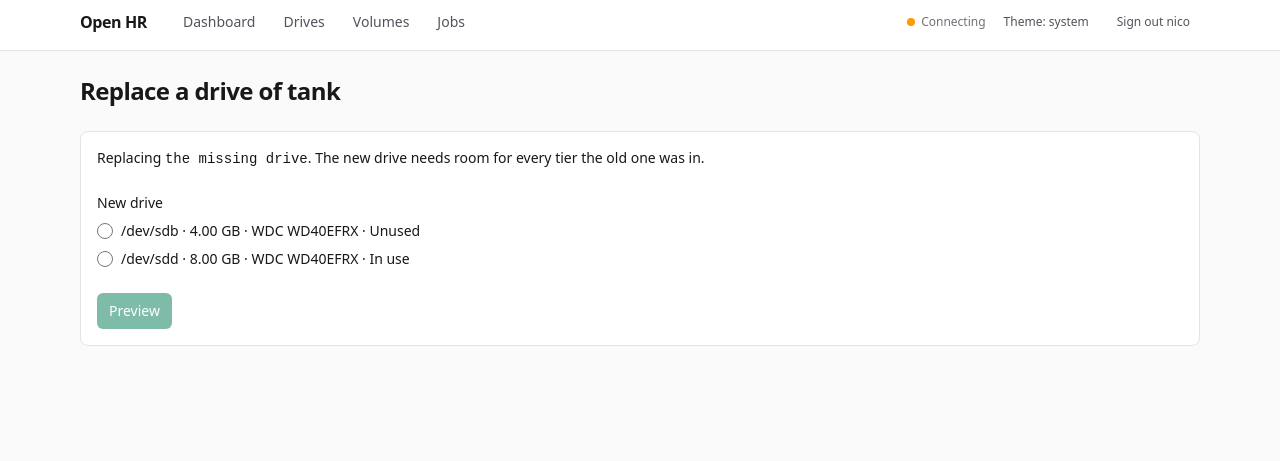
Scenario: replace drive › replaces the missing drive without a path, and shows refusals
The width and height of the screenshot is (1280, 461).
Expected: the text "the missing drive" is shown, [165,151,308,167]
What coordinates should you click on to do the following:
click the radio button labelled "/dev/sdb · 4.00 GB · WDC WD40EFRX · Unused"
I would click on:
 (105, 231)
Its box is [97,223,113,239].
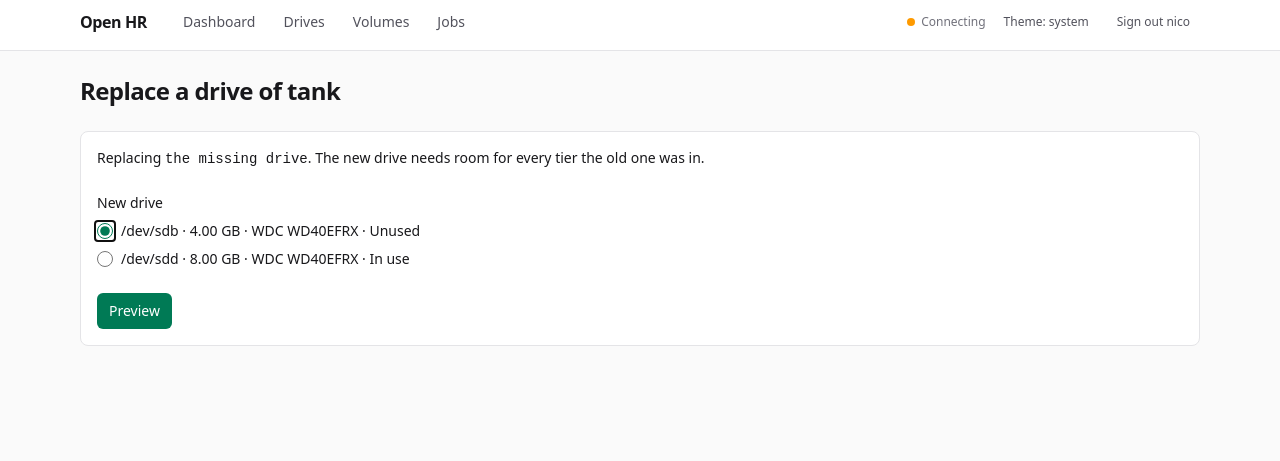
What coordinates should you click on to do the following:
click the button "Preview"
I would click on:
 (134, 311)
Its box is [97,293,172,329].
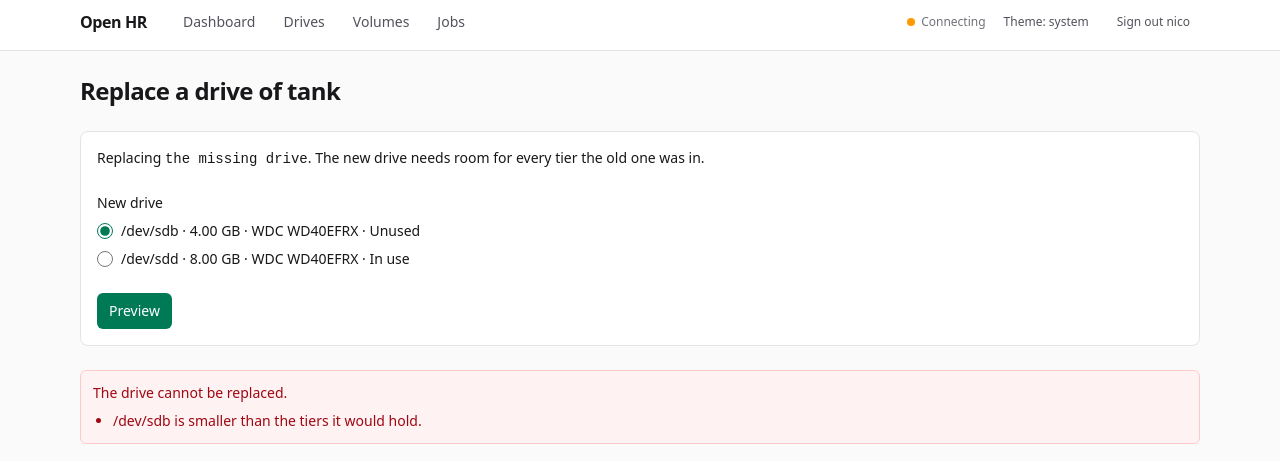
Now the list item "/dev/sdb is smaller than the tiers it would hold." is shown, box [113,411,422,430]
